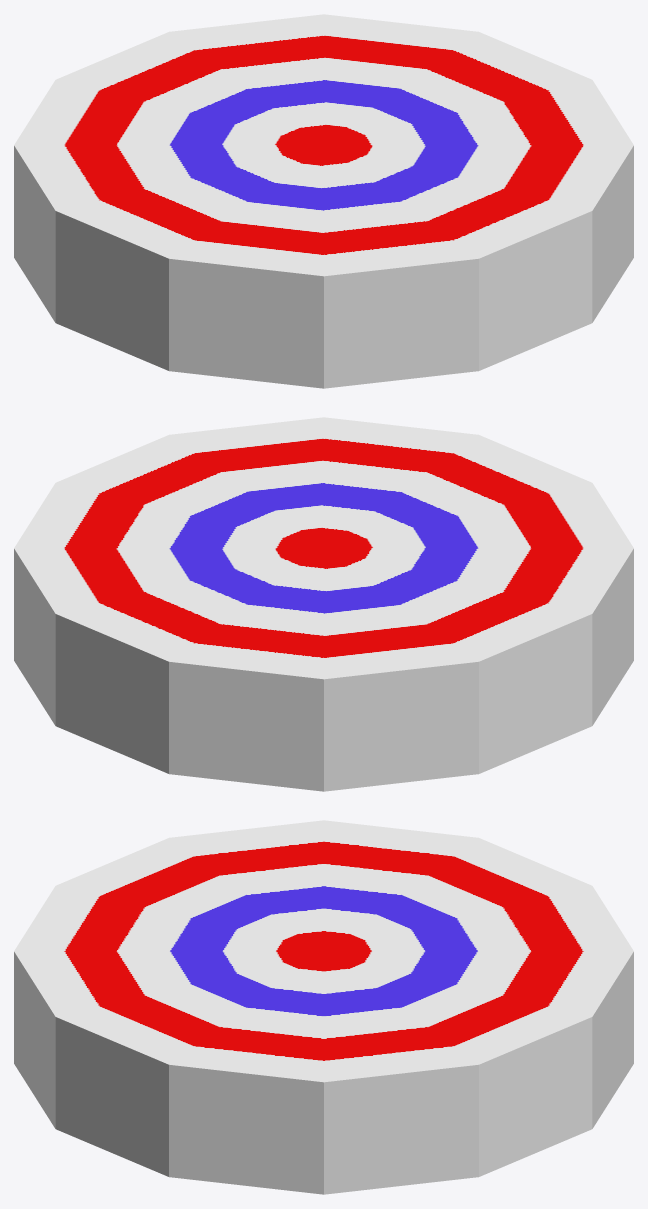
Rendered from Target.glb.
3 renders of one model, top to bottom at view 1: azimuth 30°, elevation 25°; view 2: azimuth 150°, elevation 25°; view 3: azimuth 270°, elevation 25°, orthographic.
Visible parts, largest first — view 1: Cylinder; view 2: Cylinder; view 3: Cylinder.
Part boxes in pixels (<box>): Cylinder: <box>14,14,633,388</box>; Cylinder: <box>14,417,633,791</box>; Cylinder: <box>14,820,633,1194</box>.
Bounding box in the file's own units: 1 × 0.2 × 1.
1 material, 1 textured.
